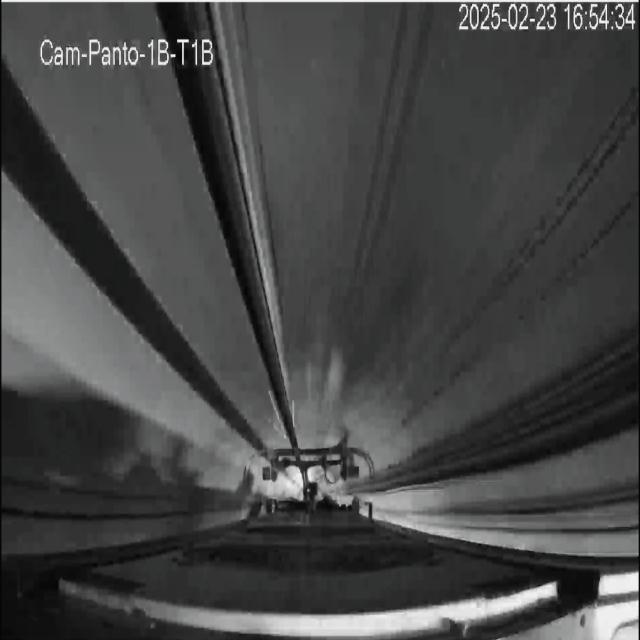Camera Stamp: (39, 33, 218, 69)
Date Stamp: (458, 2, 636, 33)
Sparks: (269, 391, 287, 438), (268, 388, 281, 414), (293, 401, 295, 427)
